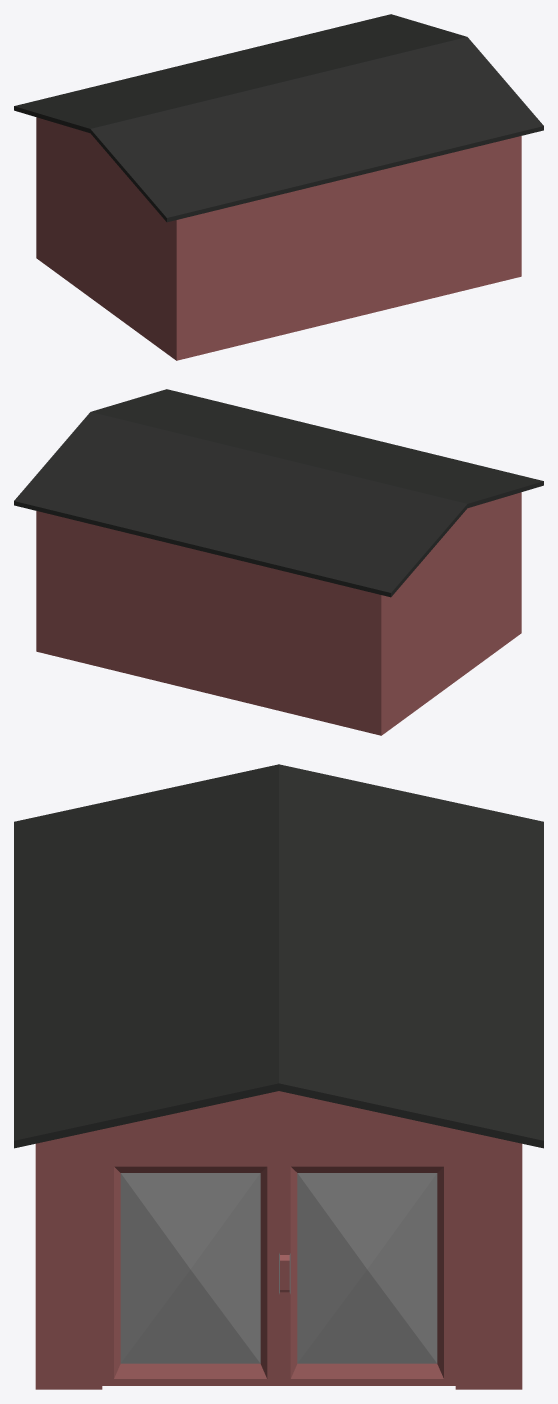
Rendered from Garage1.fbx.
3 renders of one model, top to bottom at view 1: azimuth 30°, elevation 25°; view 2: azimuth 150°, elevation 25°; view 3: azimuth 270°, elevation 25°, orthographic. The views are drawn at different scales.
Parts seen in each view (by area): view 1: garage 6; view 2: garage 6; view 3: garage 6, garage6door1, garage6door2.
Part boxes in pixels (left/top/right/bottom): garage 6: left=14, top=14, right=543, bottom=360; garage 6: left=14, top=389, right=543, bottom=735; garage 6: left=14, top=764, right=543, bottom=1389; garage6door1: left=102, top=1165, right=278, bottom=1385; garage6door2: left=279, top=1165, right=455, bottom=1385.
Size of the model in its own units: 641 by 299 by 450.
